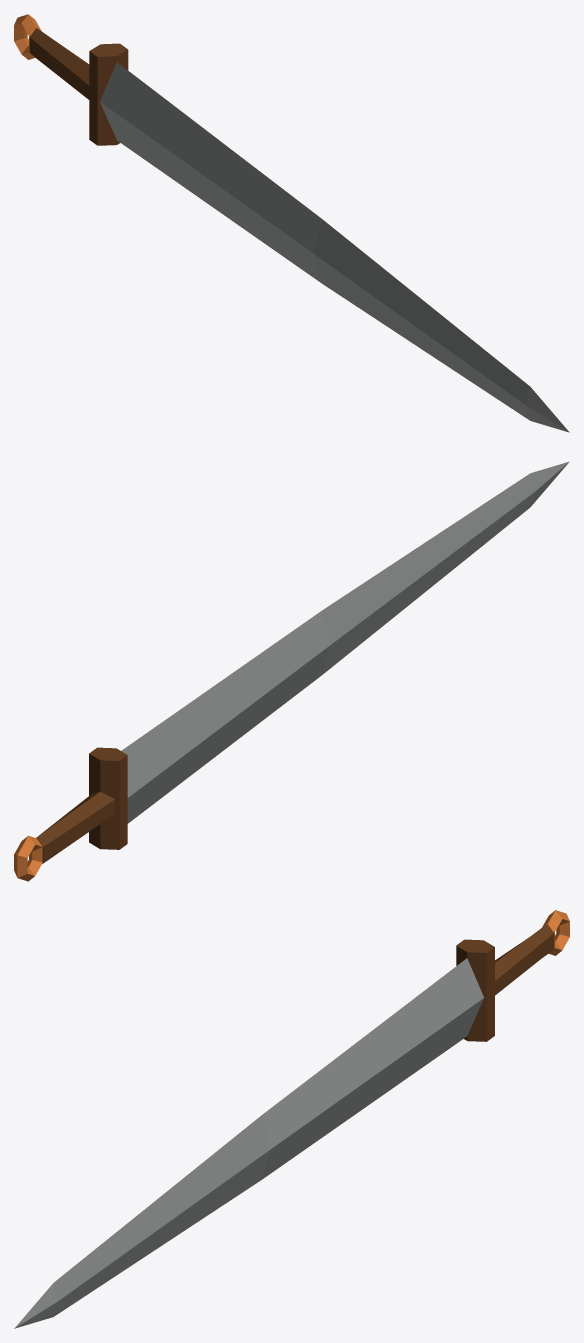
The model's file is Sword.fbx.
3 renders of one model, top to bottom at view 1: azimuth 30°, elevation 25°; view 2: azimuth 150°, elevation 25°; view 3: azimuth 330°, elevation 25°, orthographic.
Visible parts, largest first — view 1: Sword; view 2: Sword; view 3: Sword.
Boxes of the visible parts, left/top/right/bottom form: Sword: left=14, top=14, right=569, bottom=432; Sword: left=14, top=461, right=569, bottom=881; Sword: left=14, top=910, right=569, bottom=1328.
Bounding box in the file's own units: 2.74 × 7.61 × 85.75.
